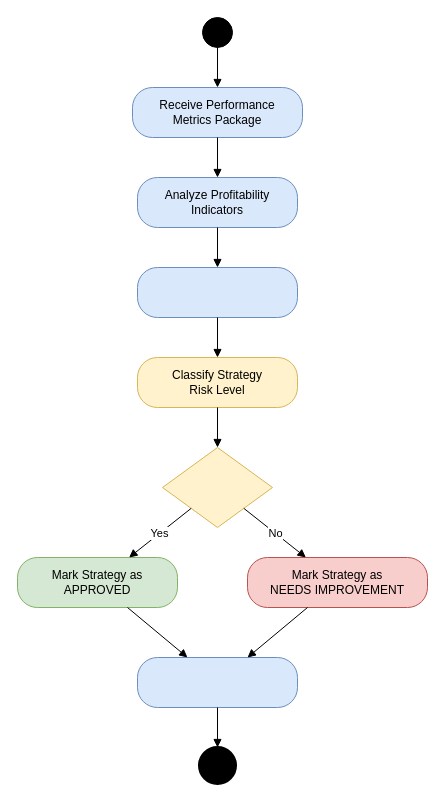
Some shapes in this 445 by 802 pixel diagram are drawn without their labels. The shapes that lost their labels are listed below. From the top down, each one's box as (x1, y1, x2, y2) in pixels, then its label:
(136, 266, 298, 318): Analyze Strategy Stability
(162, 446, 272, 528): Profitable and Stable?
(136, 656, 298, 708): Generate Evaluation Report
